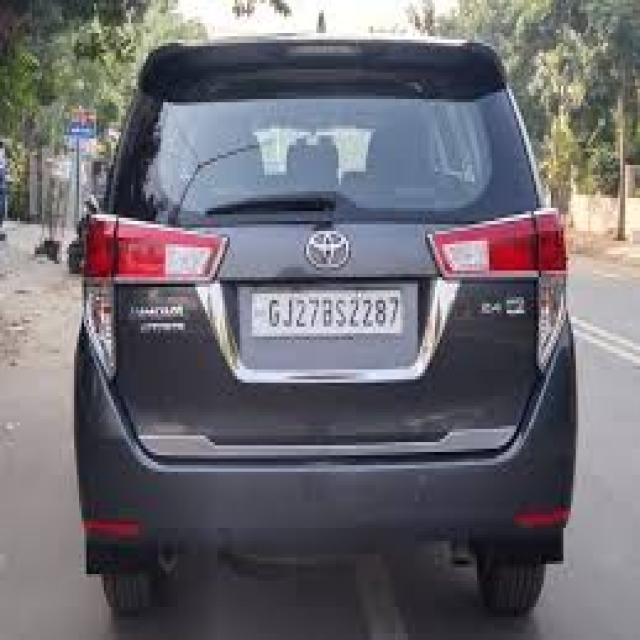light_vehicle: (74, 33, 578, 615)
